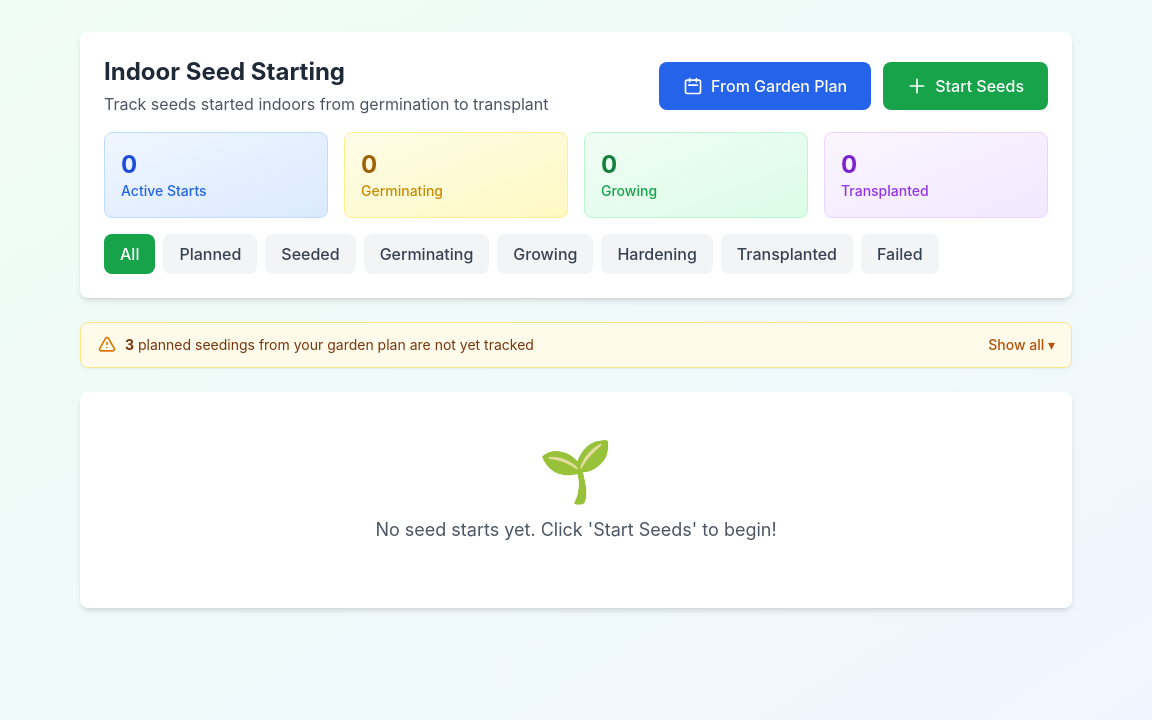
Test case: IndoorSeedStarts — plan-only seedings banner › renders banner and 3 expanded rows when /needs-indoor-starts returns 3 rows
Expected: the element with test id "plan-only-seedings-banner" reads "3 planned seedings from your garden plan are not yet tracked Show all ▾", 80,322 -> 1072,368
Click the button "Show all ▾" at (1022, 345), box 988,335 -> 1055,355
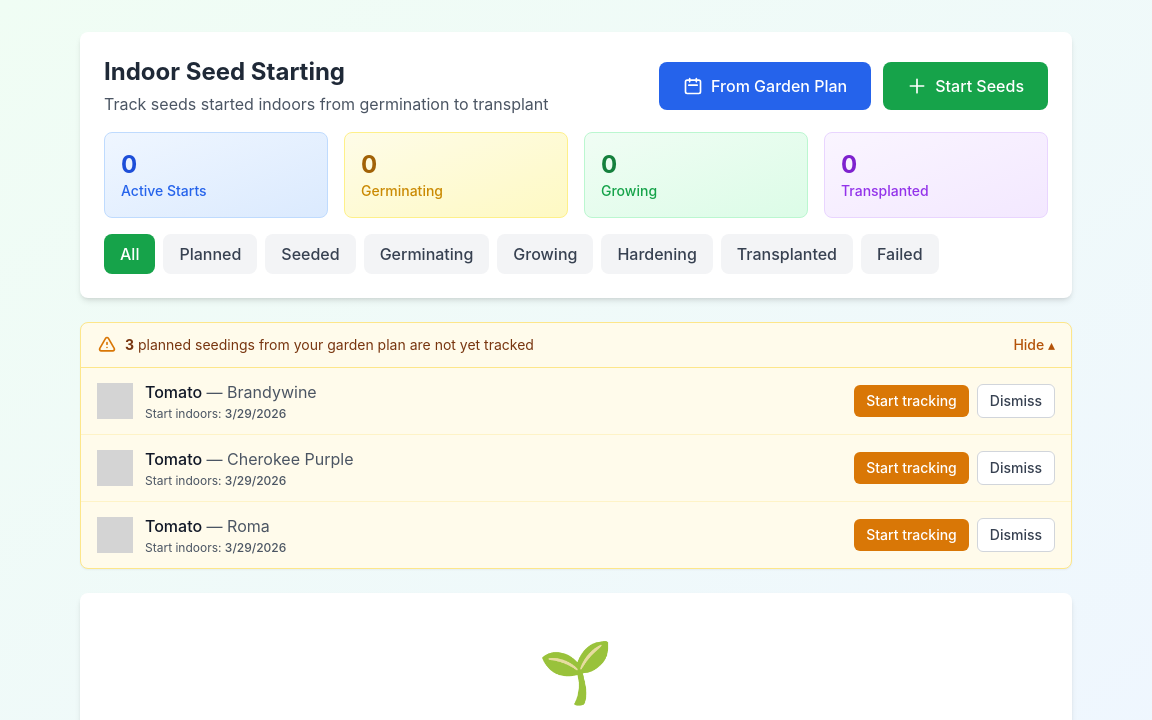
Now the list item with test id "plan-only-row-101" is shown, box 97,382 -> 1055,421
Now the list item with test id "plan-only-row-102" is shown, box 81,434 -> 1071,501
Now the list item with test id "plan-only-row-103" is shown, box 81,501 -> 1071,568
